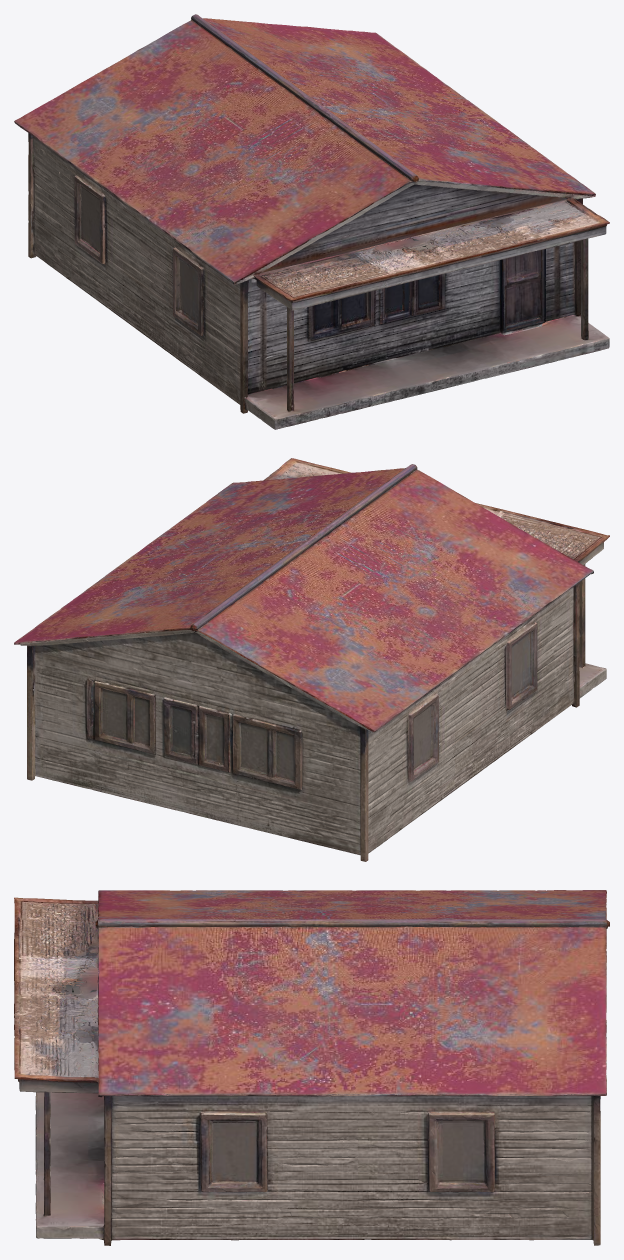
Rendered from cabin.glb.
The picture shows the model from 3 angles, top to bottom: view 1: azimuth 30°, elevation 25°; view 2: azimuth 150°, elevation 25°; view 3: azimuth 270°, elevation 25°; orthographic projection. The views are drawn at different scales.
Visible parts, largest first — view 1: world; view 2: world; view 3: world.
Boxes of the visible parts, box(x1,y1,x2,y2) form: world: box(14, 14, 609, 429); world: box(14, 458, 609, 861); world: box(14, 890, 609, 1245).
Bounding box in the file's own units: 1.61 × 0.8461 × 1.99.
Materials: 1 (1 with a texture image).
